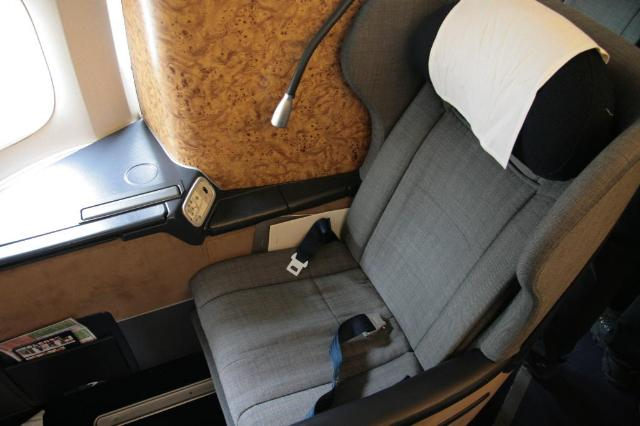Seatbelt: (284, 218, 334, 276)
